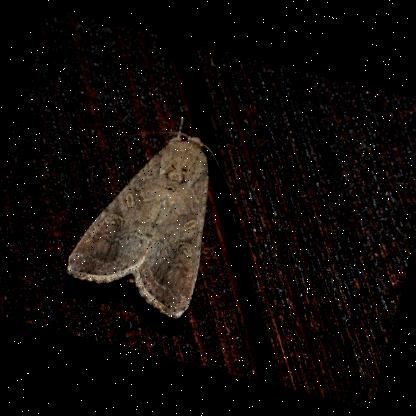Fall Armyworm Moth: (57, 96, 238, 326)
